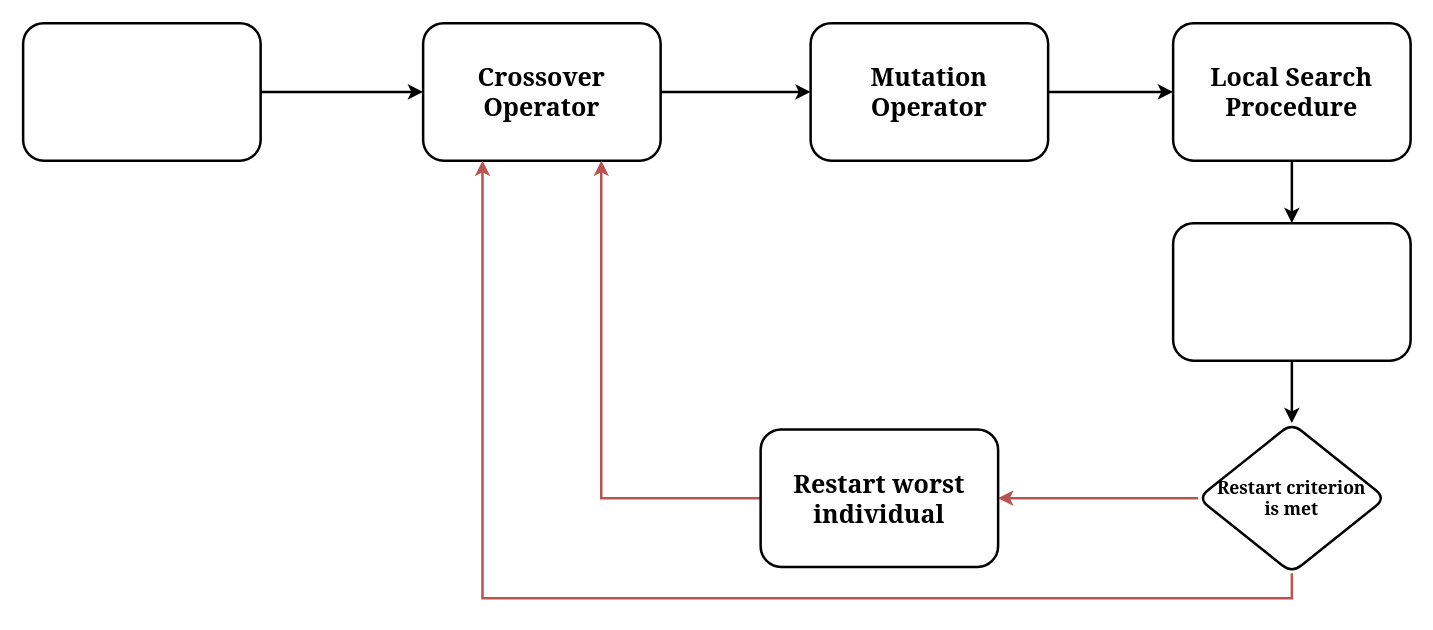
Some shapes in this 1433 by 630 pixel diagram are drawn without their labels. Here are the shapes that lost their labels. From the top down, the box of each, then its label:
(21, 21, 261, 161): Random Initialization of Individuals
(1171, 221, 1411, 361): Replacing Operator
